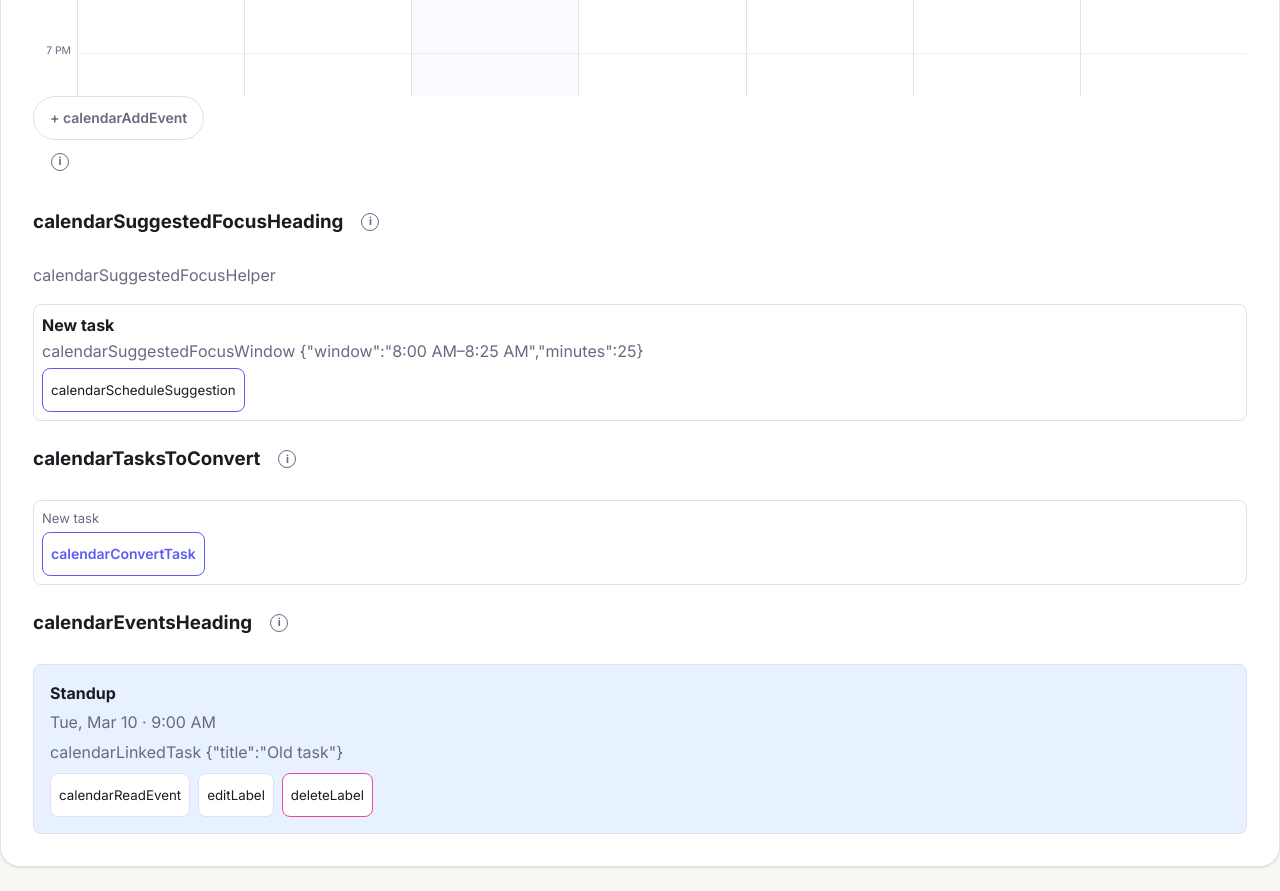
Test case: CalendarView › moves the task link when an edit changes the linked task
(page scrolled)
Click the button "editLabel". click: (236, 796)
box: [198,774,274,818]
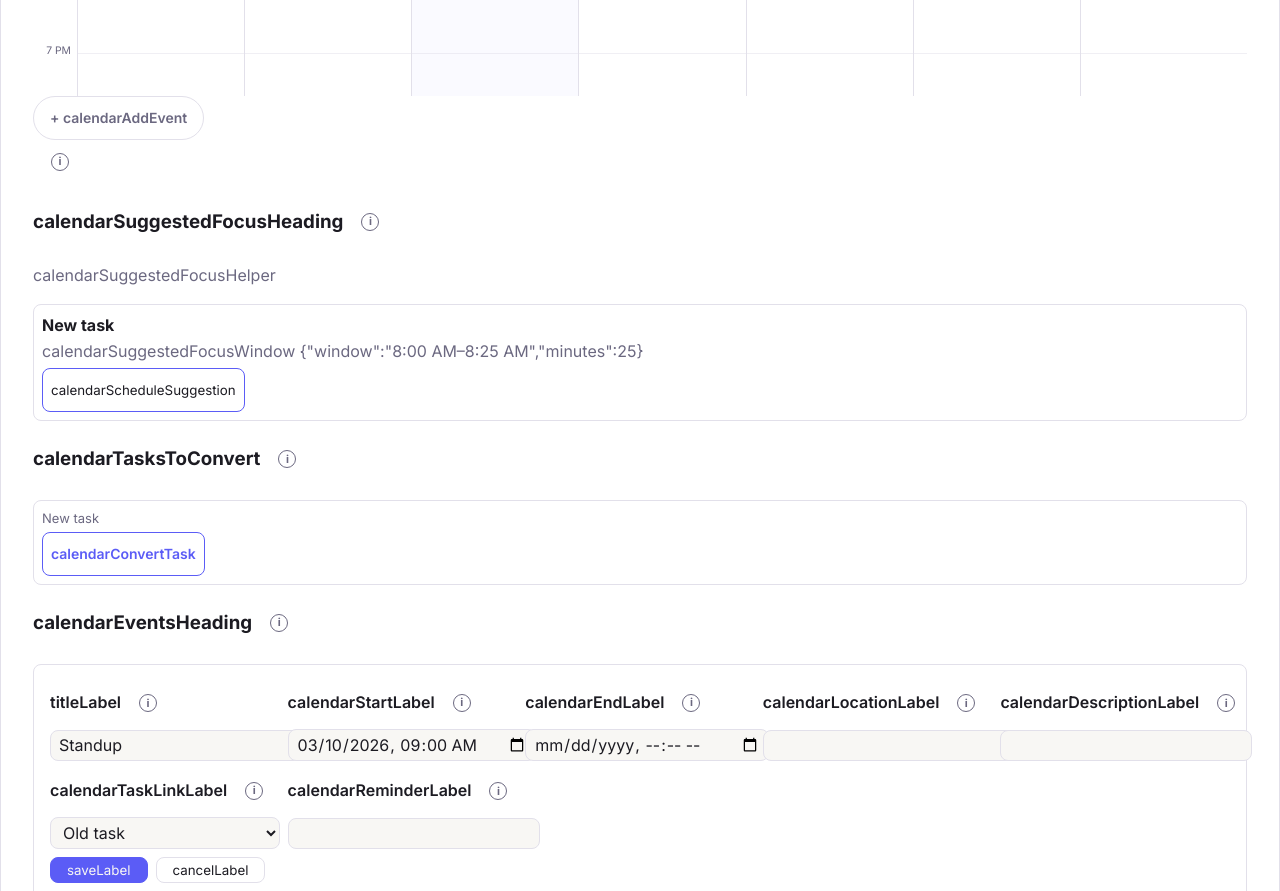
Now the field below "titleLabel" holds "Standup"
Replace the text in the field below "titleLabel" with "Team standup". click: (176, 745)
box: [50,730,302,761]
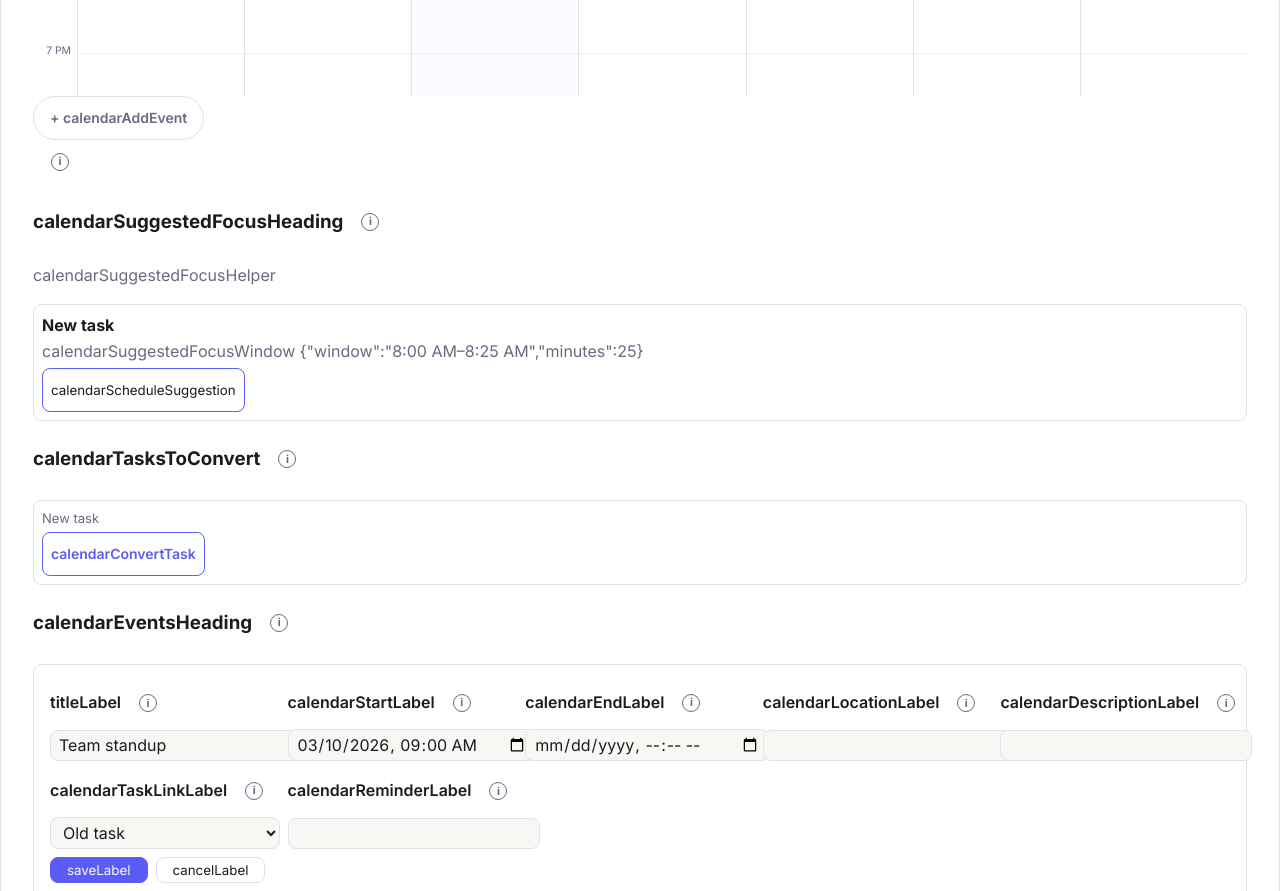
Select "New task" in the dropdown. click: (165, 833)
box: [50,817,280,849]
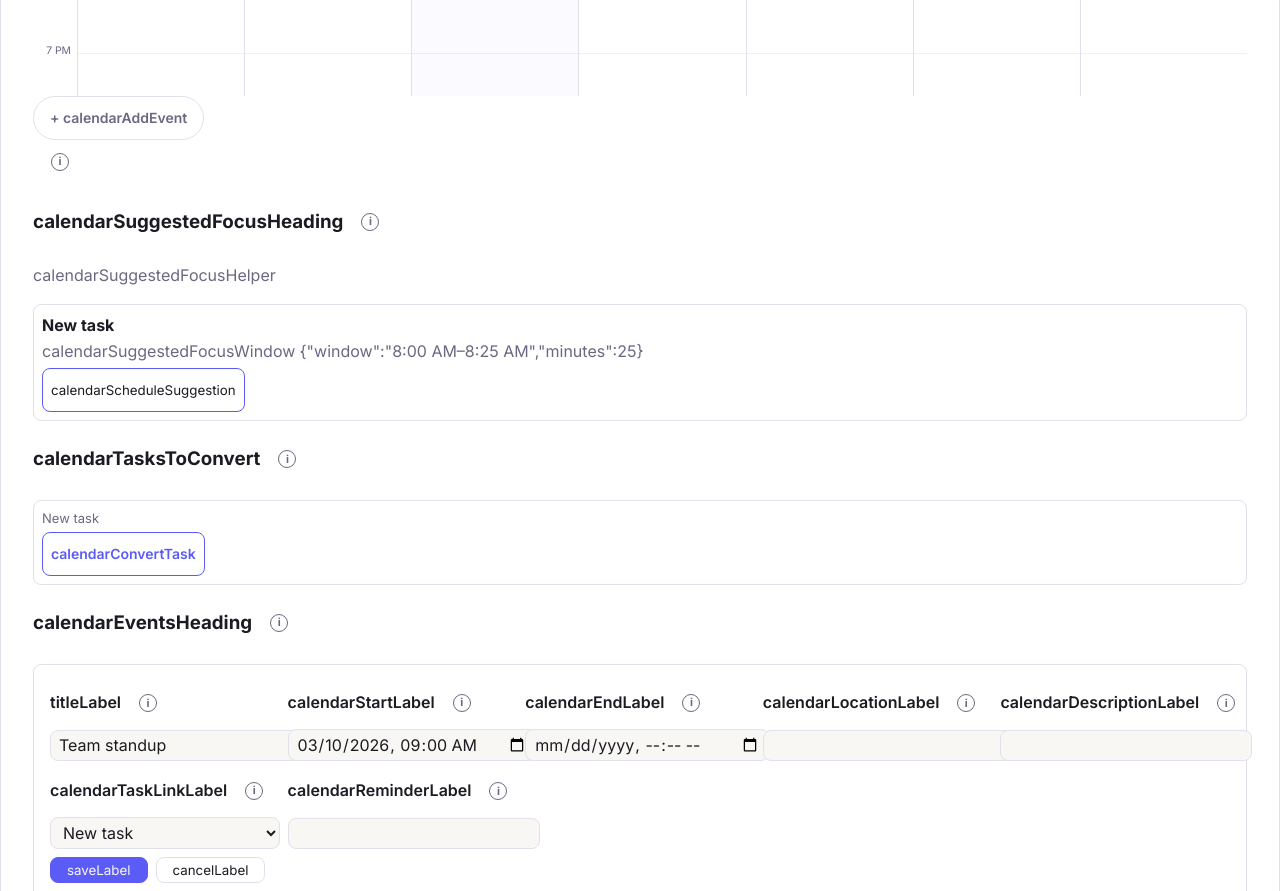
Click the button "saveLabel". click: (99, 870)
box: [50,857,148,883]
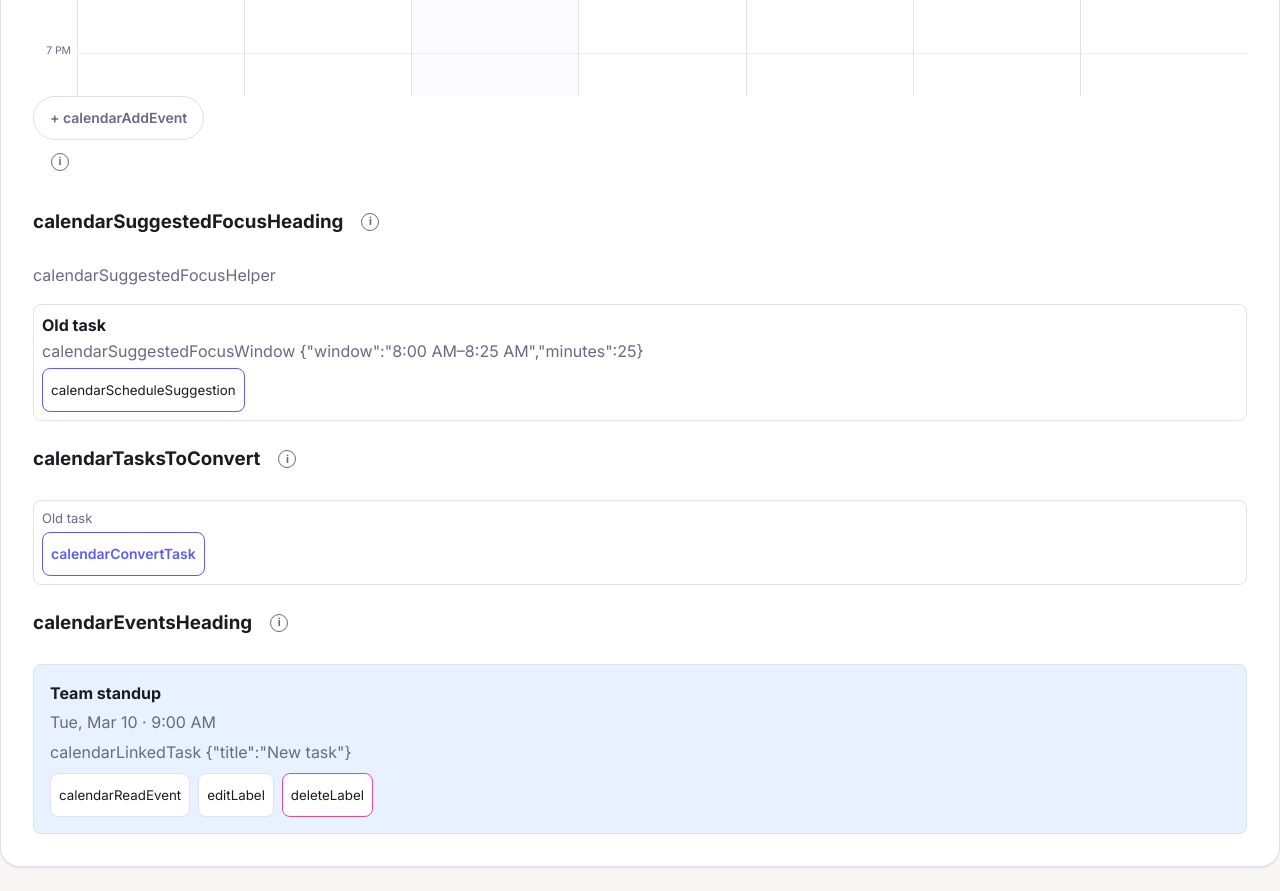
Now the text "Team standup" is shown, box [50,683,161,703]
